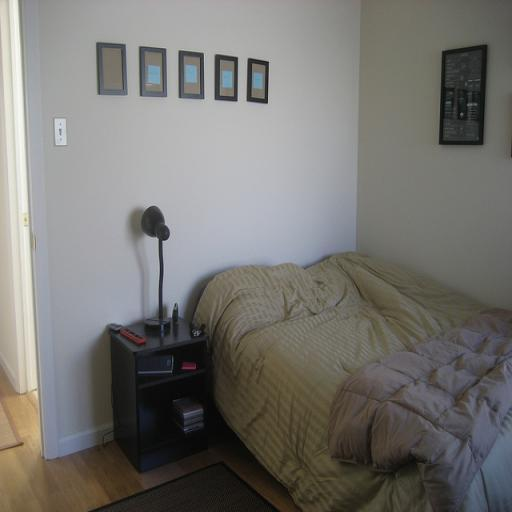bed: (194, 229, 512, 512)
